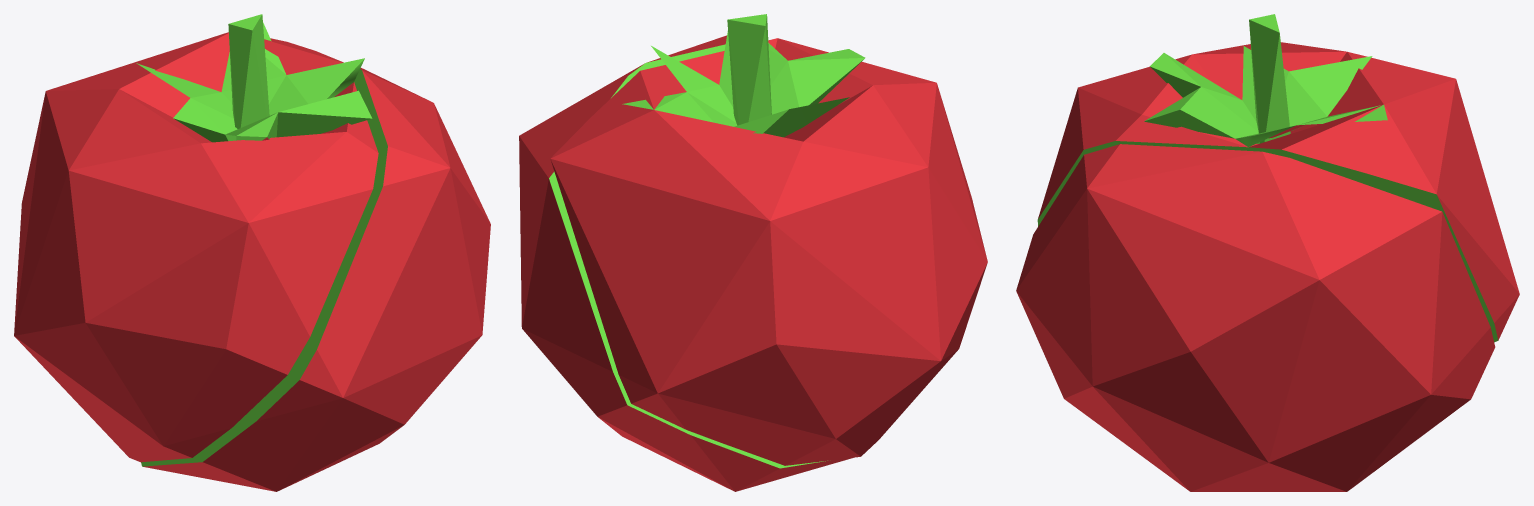
File: BrokenTomato.fbx
3 renders of one model, left to right at view 1: azimuth 30°, elevation 25°; view 2: azimuth 150°, elevation 25°; view 3: azimuth 270°, elevation 25°, orthographic. The views are drawn at different scales.
Visible parts, largest first — view 1: Tomato_cell, Tomato_cell.001; view 2: Tomato_cell, Tomato_cell.001; view 3: Tomato_cell.001, Tomato_cell.
Boxes of the visible parts, <box> form: Tomato_cell: <box>14,14,378,462</box>; Tomato_cell.001: <box>141,68,490,491</box>; Tomato_cell: <box>550,14,987,465</box>; Tomato_cell.001: <box>519,35,853,491</box>; Tomato_cell.001: <box>1016,144,1495,491</box>; Tomato_cell: <box>1037,14,1519,342</box>.
Bounding box in the file's own units: 10.62 × 10.75 × 10.75.
